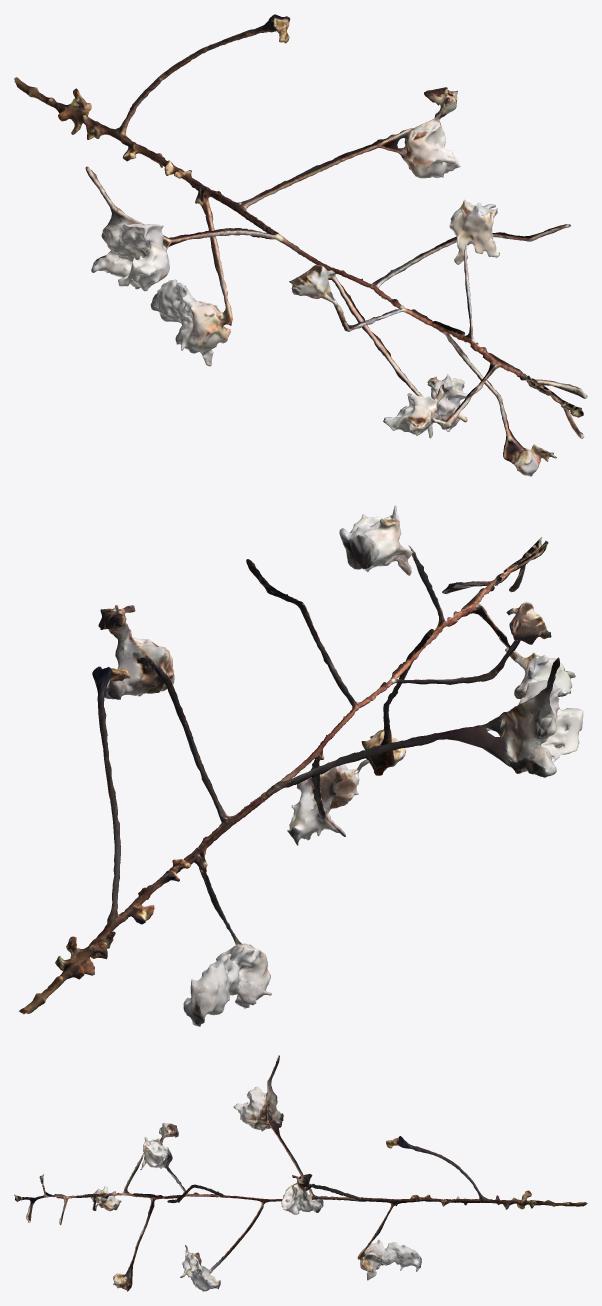
File: plant_13_grouped.obj
3 renders of one model, top to bottom at view 1: azimuth 30°, elevation 25°; view 2: azimuth 150°, elevation 25°; view 3: azimuth 270°, elevation 25°, orthographic. The views are drawn at different scales.
Parts seen in each view (by area): view 1: Cotton_Boll_Part, Cotton_Remaining; view 2: Cotton_Boll_Part, Cotton_Remaining; view 3: Cotton_Boll_Part, Cotton_Remaining.
Part boxes in pixels (x1,y1,x2,y2): Cotton_Boll_Part: [91, 87, 556, 476]; Cotton_Remaining: [14, 14, 587, 463]; Cotton_Boll_Part: [98, 505, 583, 1026]; Cotton_Remaining: [19, 537, 559, 1014]; Cotton_Boll_Part: [91, 1086, 421, 1291]; Cotton_Remaining: [14, 1055, 587, 1291].
Size of the model in its own units: 1.83 by 1.37 by 4.19.
1 material, 1 textured.
